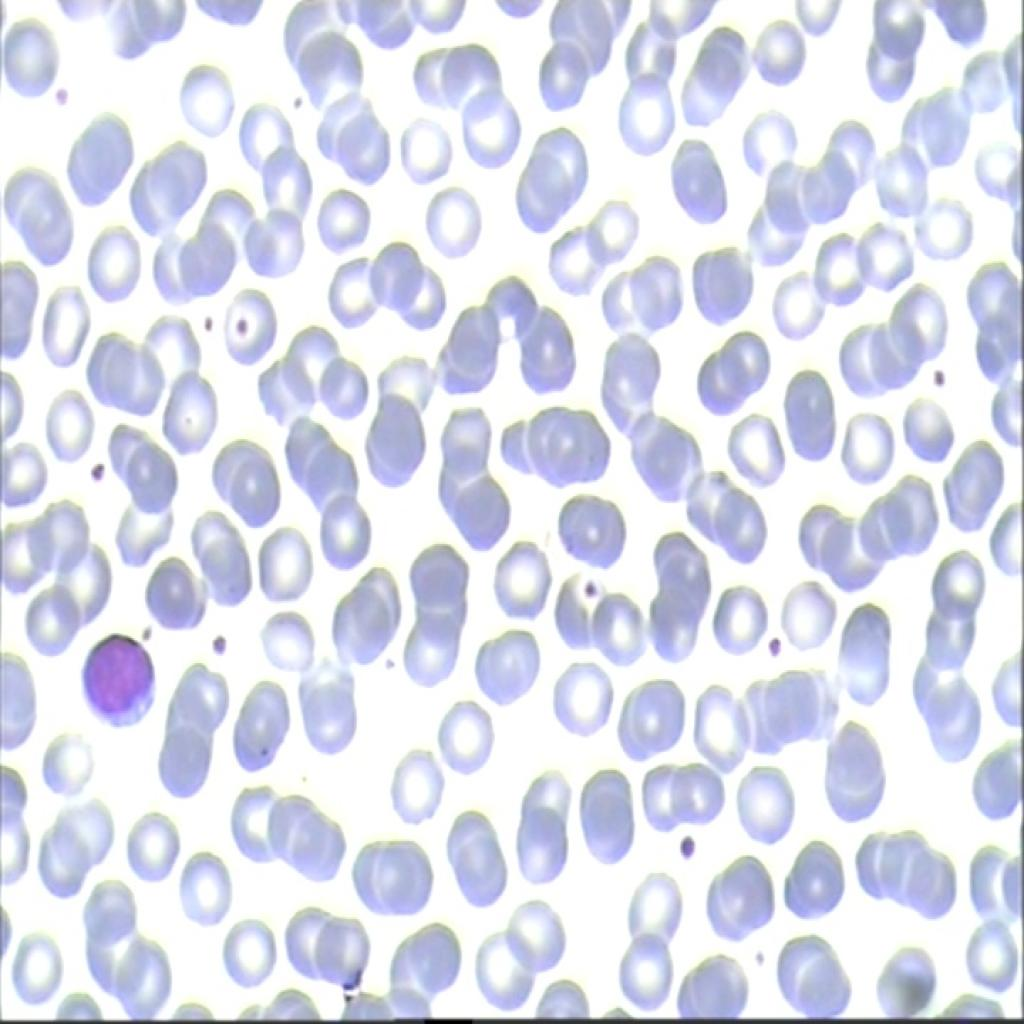Limfosit: (74, 626, 176, 732)
Platelet: (45, 78, 101, 124), (204, 631, 254, 674), (78, 442, 115, 500), (189, 304, 228, 350), (670, 820, 705, 870), (754, 618, 786, 668), (574, 565, 614, 603), (922, 352, 954, 398), (226, 311, 260, 345), (286, 85, 317, 114), (135, 618, 155, 644)
